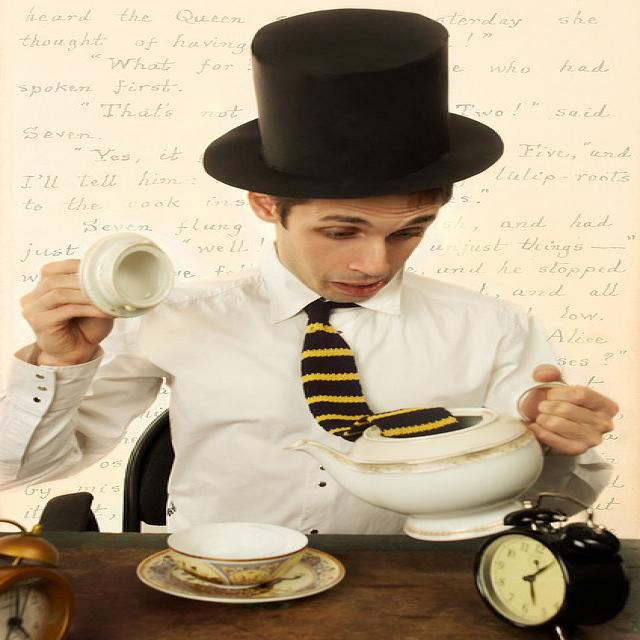chair: (118, 406, 172, 535)
dining table: (0, 493, 634, 632)
